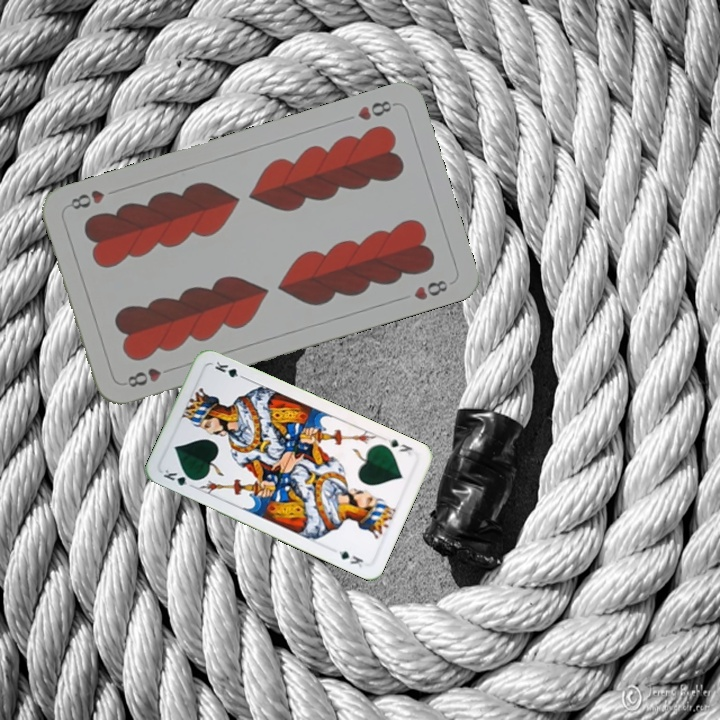GK: (159, 465, 199, 488), (384, 435, 415, 458)
H8: (119, 363, 177, 390), (353, 96, 399, 123)
